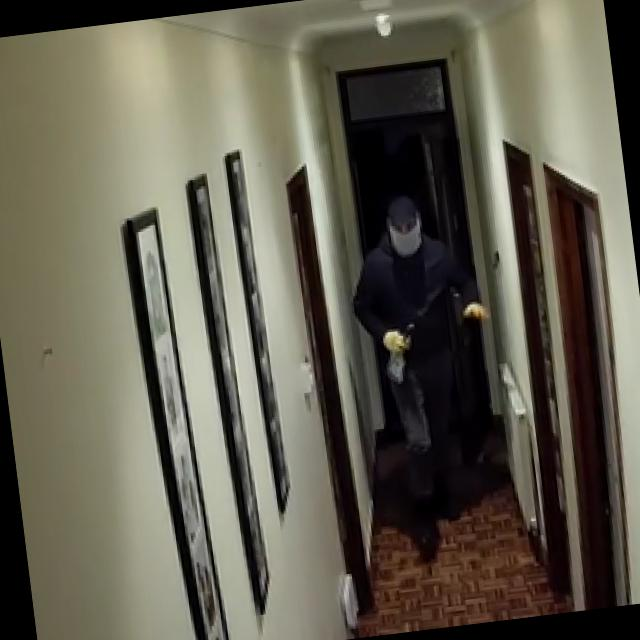person: (338, 188, 516, 559)
